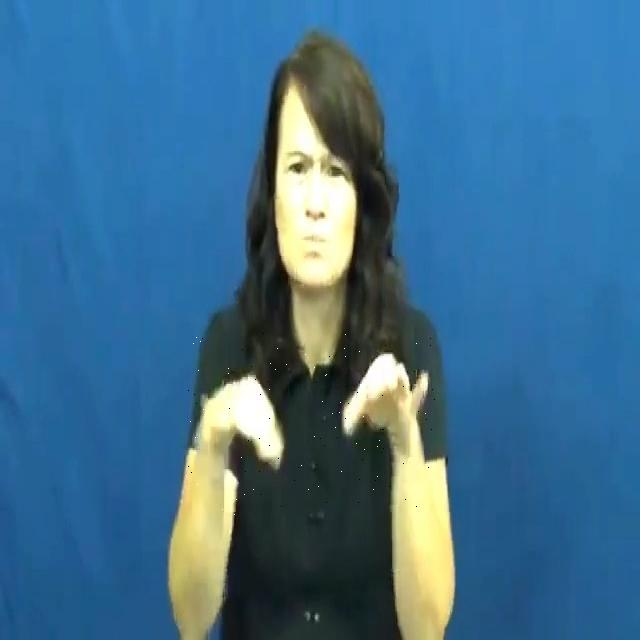urgent: (184, 332, 438, 518)
